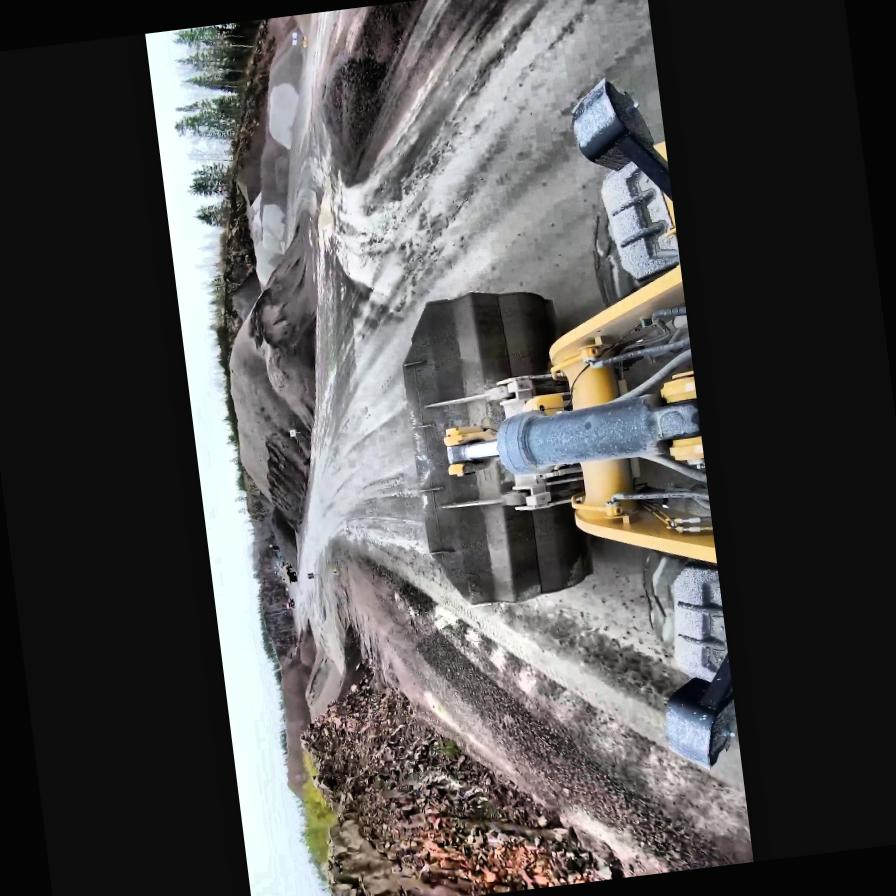anchor: (440, 423, 501, 478)
pile of gravel: (209, 225, 340, 528), (307, 0, 485, 182), (215, 24, 333, 290), (268, 622, 332, 796), (267, 506, 300, 576)
